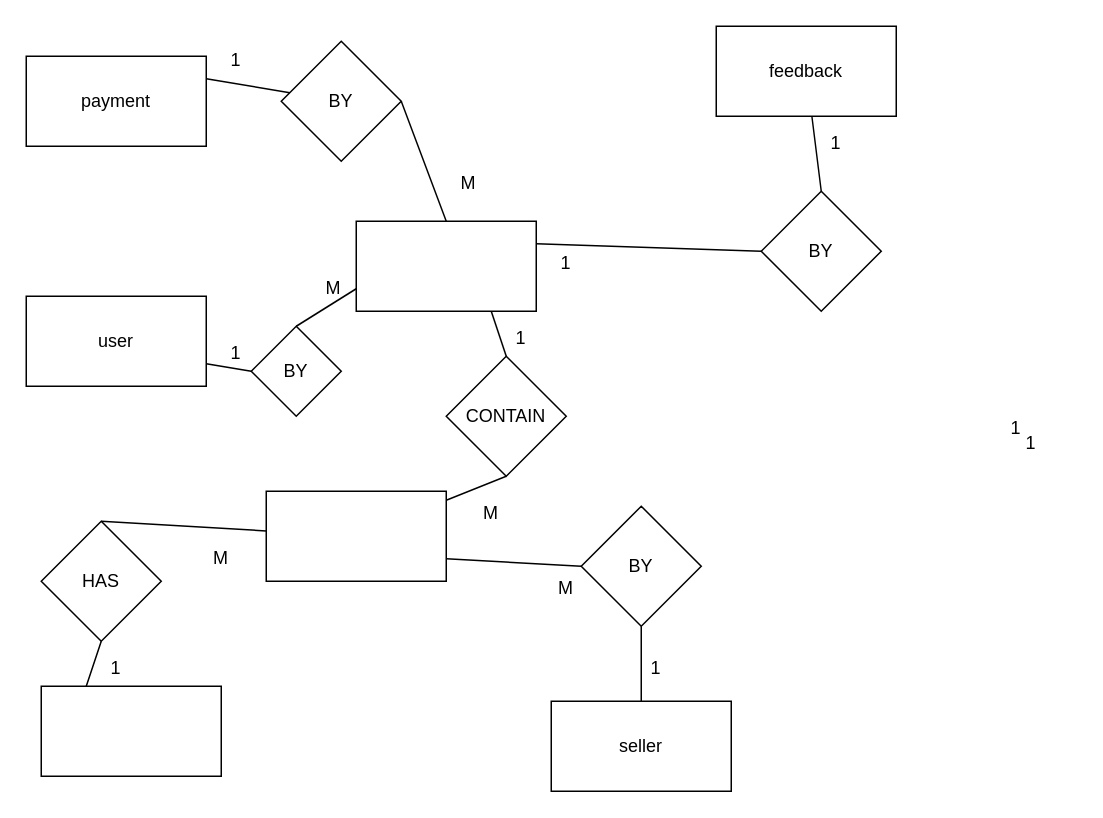
Image size: 1103x818. Some labels were removed from this diagram. Here are the shapes that lost their labels. From the top down, the centre of each, then its label:
At [445,265]: "order".
At [355,535]: "order_items".
At [130,730]: "products".
